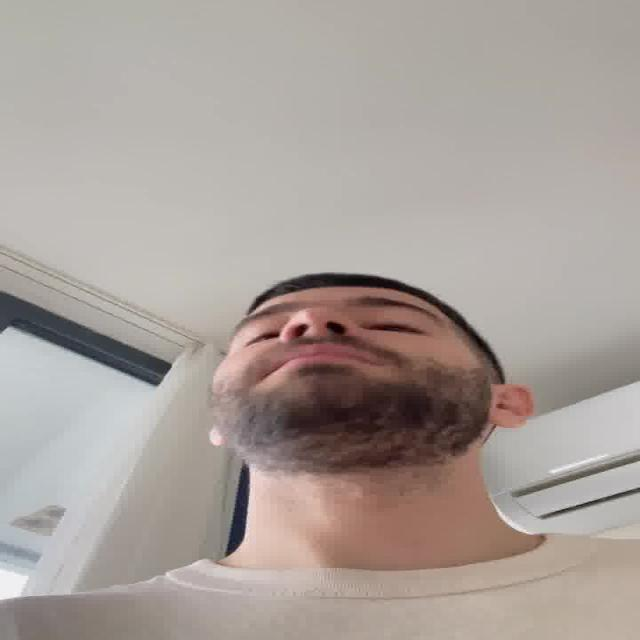earlobe: (491, 409, 524, 429), (205, 428, 229, 447)
eye: (365, 319, 430, 336), (230, 330, 282, 348)
nose: (287, 328, 358, 344)
wholeear: (486, 384, 536, 430)
